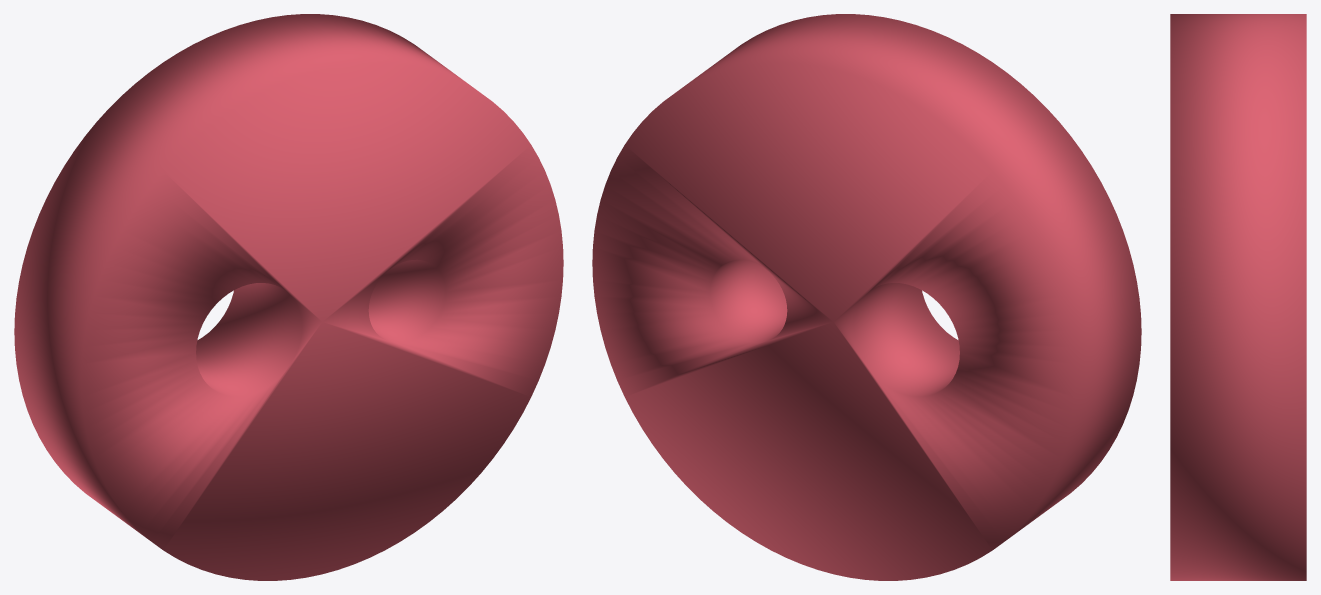
The model's file is bs2311-3-cap-proxy-bcacf19d2131.glb.
3 views of the same model, side by side, from view 1: azimuth 30°, elevation 25°; view 2: azimuth 150°, elevation 25°; view 3: azimuth 270°, elevation 25° (orthographic).
Parts seen in each view (by area): view 1: BS2311-3_Cap_Body; view 2: BS2311-3_Cap_Body; view 3: BS2311-3_Cap_Body.
Boxes of the visible parts, box(x1,y1,x2,y2) form: BS2311-3_Cap_Body: box(14, 14, 563, 580); BS2311-3_Cap_Body: box(592, 14, 1141, 580); BS2311-3_Cap_Body: box(1170, 14, 1306, 580).
Size of the model in its own units: 0.025 by 0.025 by 0.006.
